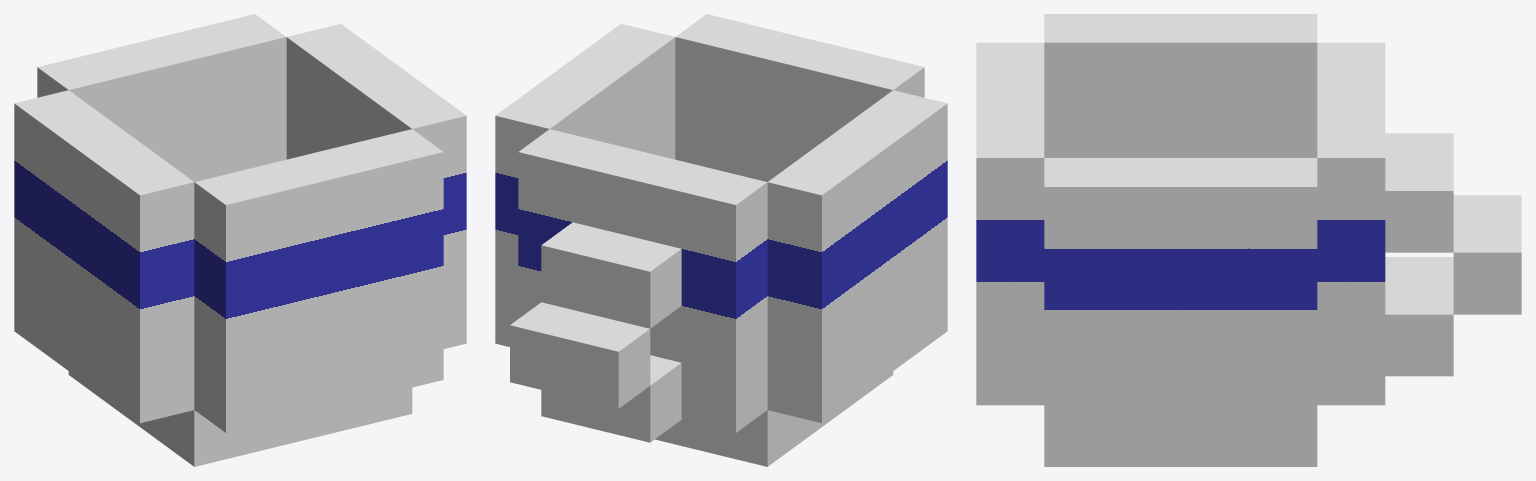
File: teacup.gltf
The picture shows the model from 3 angles, left to right: view 1: azimuth 30°, elevation 25°; view 2: azimuth 150°, elevation 25°; view 3: azimuth 270°, elevation 25°; orthographic projection. The views are drawn at different scales.
Visible parts, largest first — view 1: wall3, wall0, wall1, wall2, base; view 2: wall0, wall1, wall3, wall2, handle1 (×2), handle0, base; view 3: wall2, wall0, wall1, wall3, handle1 (×2), base, handle0.
Boxes of the visible parts, x1,y1,x2,y2 form: wall3: [194, 129, 443, 432]; wall0: [14, 90, 194, 423]; wall1: [37, 14, 286, 181]; wall2: [286, 24, 466, 348]; base: [68, 371, 412, 466]; wall0: [767, 90, 947, 423]; wall1: [518, 129, 767, 432]; wall3: [675, 14, 924, 181]; wall2: [495, 24, 675, 346]; handle1 (×2): [510, 302, 681, 442]; handle0: [541, 222, 681, 328]; base: [655, 371, 893, 466]; wall2: [1044, 158, 1317, 433]; wall0: [1044, 14, 1317, 157]; wall1: [1317, 42, 1385, 405]; wall3: [976, 42, 1044, 405]; handle1 (×2): [1385, 195, 1521, 376]; base: [1044, 434, 1317, 466]; handle0: [1385, 133, 1453, 252].
Size of the model in its own units: 0.375 by 0.3125 by 0.5.
2 materials, 2 textured.
